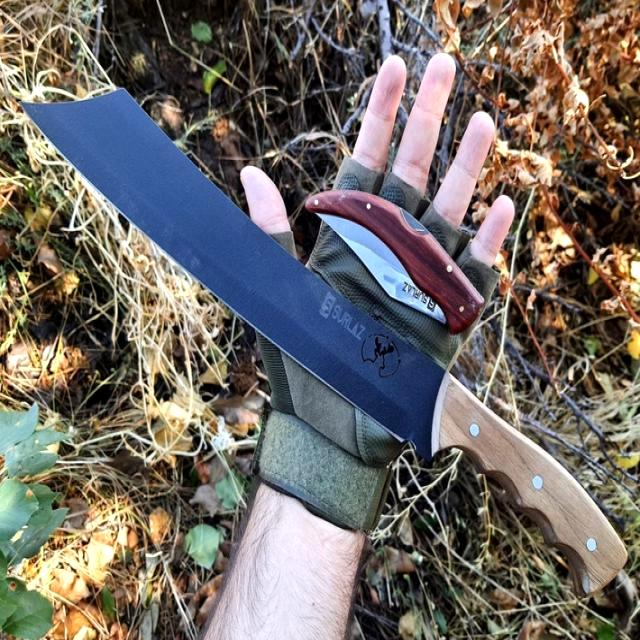long knife: (19, 66, 634, 594)
